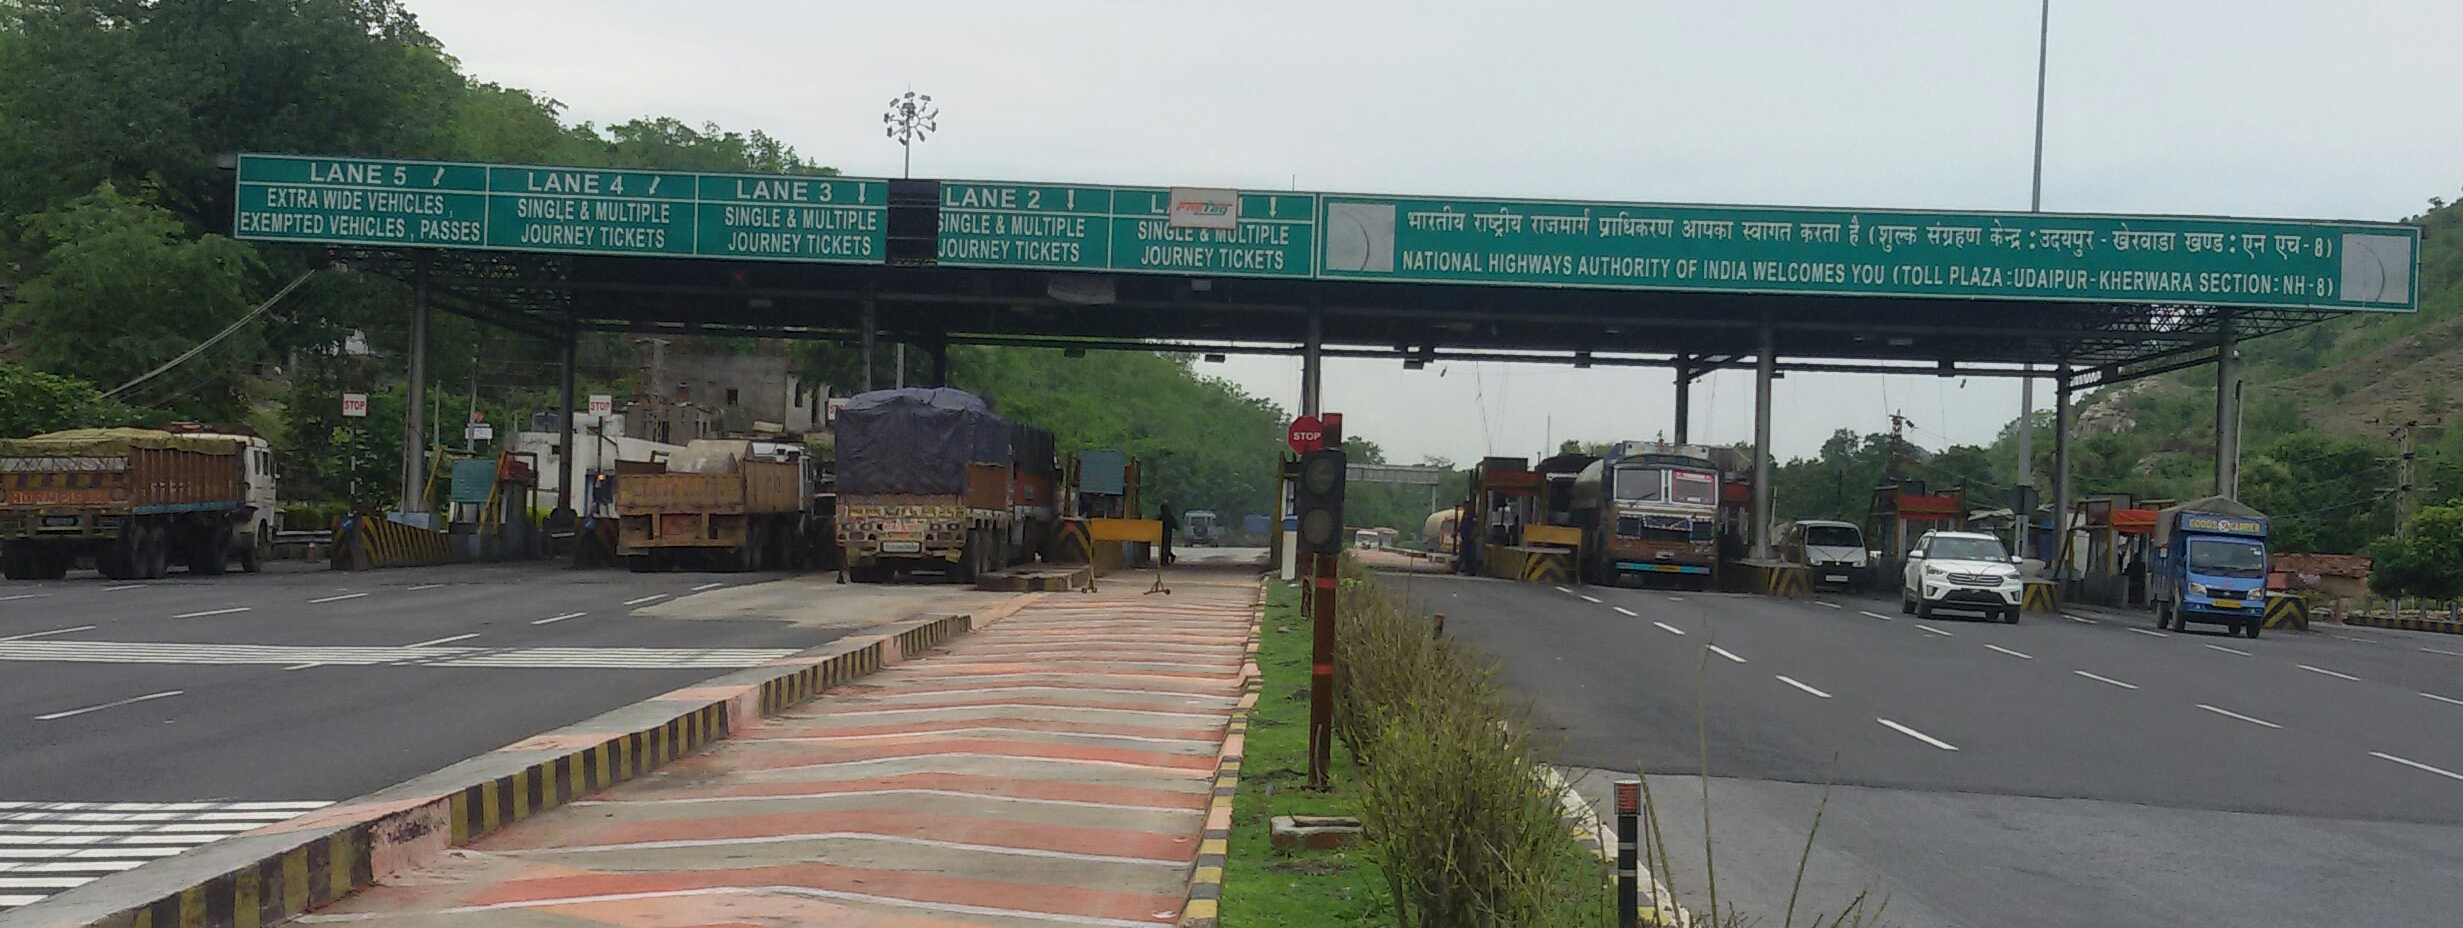toll plaza: (327, 127, 2457, 609)
